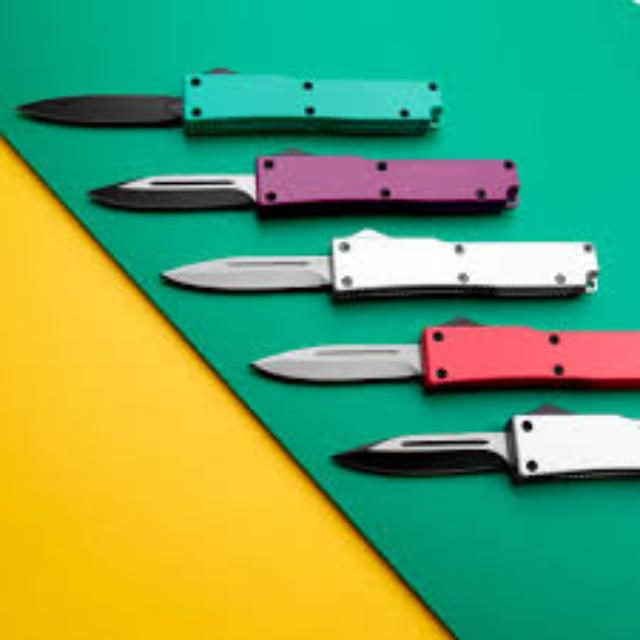Knife: (159, 226, 597, 298), (14, 66, 443, 136), (86, 148, 518, 214), (248, 316, 636, 389), (330, 404, 638, 484)
